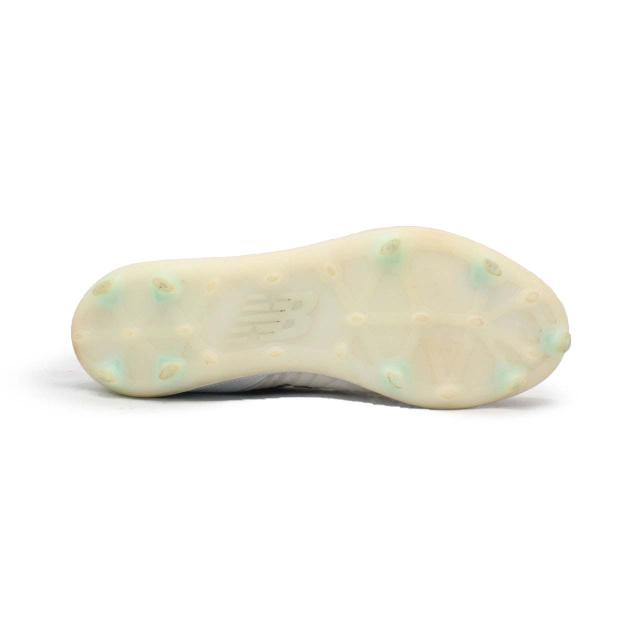outersole: (71, 224, 570, 409)
